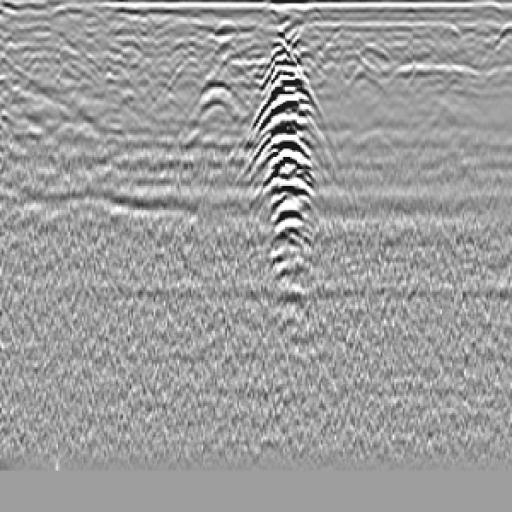metalic: (257, 35, 323, 291)
nonmetalic: (173, 78, 267, 187)
